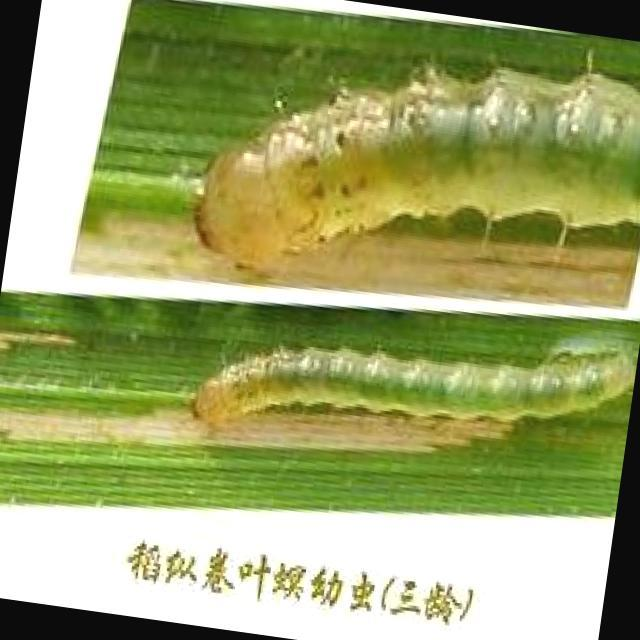leaf folder: (193, 62, 639, 304), (192, 347, 636, 421)
